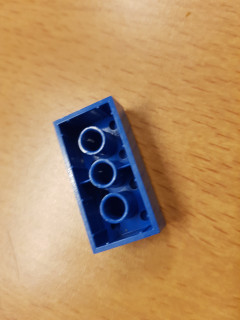2x4 blue: (49, 94, 169, 255)
